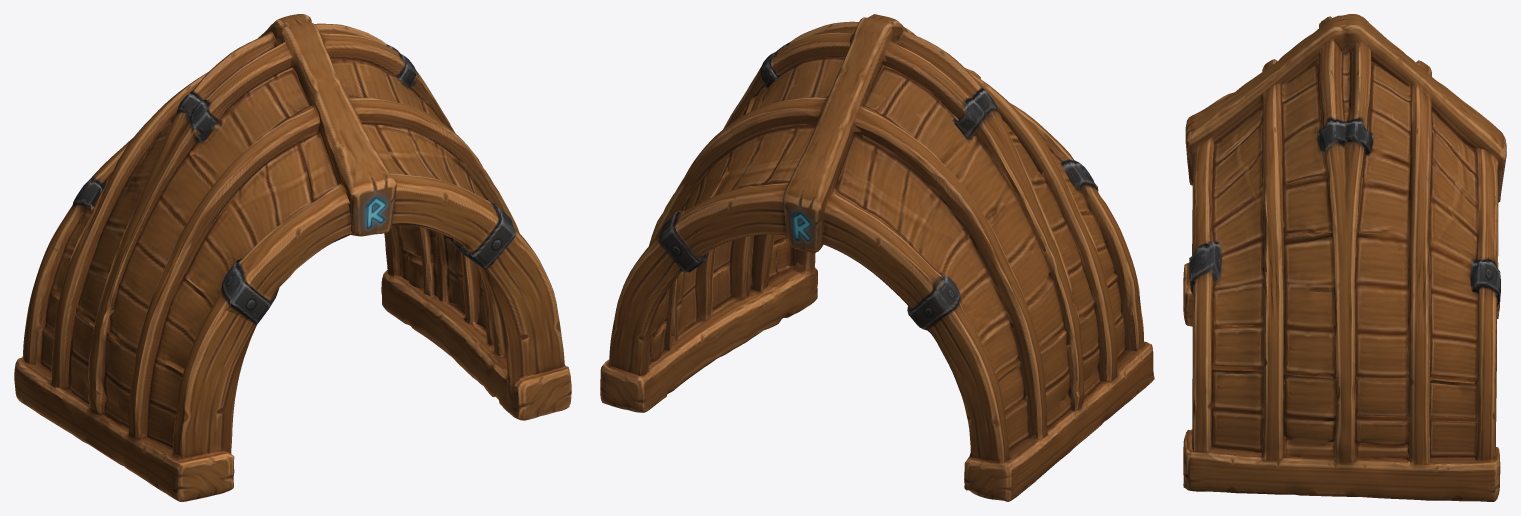
The model's file is hall_ceiling_vault_bay.glb.
3 views of the same model, side by side, from view 1: azimuth 30°, elevation 25°; view 2: azimuth 150°, elevation 25°; view 3: azimuth 270°, elevation 25° (orthographic).
Visible parts, largest first — view 1: Mesh_0; view 2: Mesh_0; view 3: Mesh_0.
Boxes of the visible parts, bbox=[...] form: Mesh_0: bbox=[14, 14, 571, 501]; Mesh_0: bbox=[600, 14, 1154, 501]; Mesh_0: bbox=[1183, 14, 1506, 501].
Bounding box in the file's own units: 6 × 5.26 × 4.
1 material, 1 textured.
